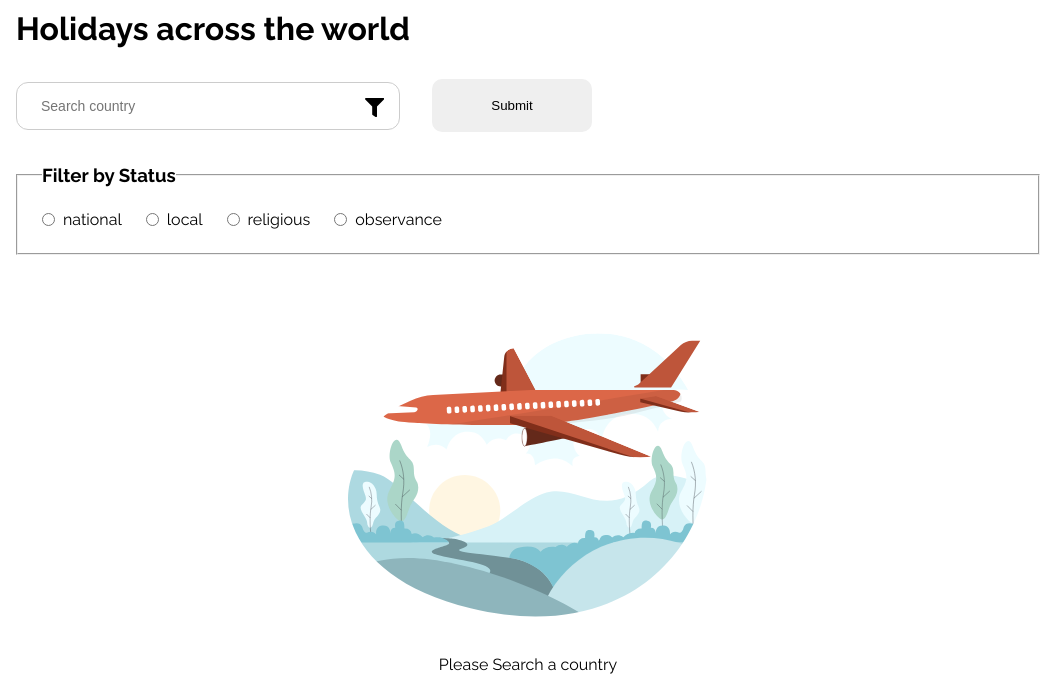
Scenario: holiday search › should have error when no any countries exist
Type "Australi" into the field with id "search-box" at (208, 106), box top-left (16, 82), bottom-right (400, 130)
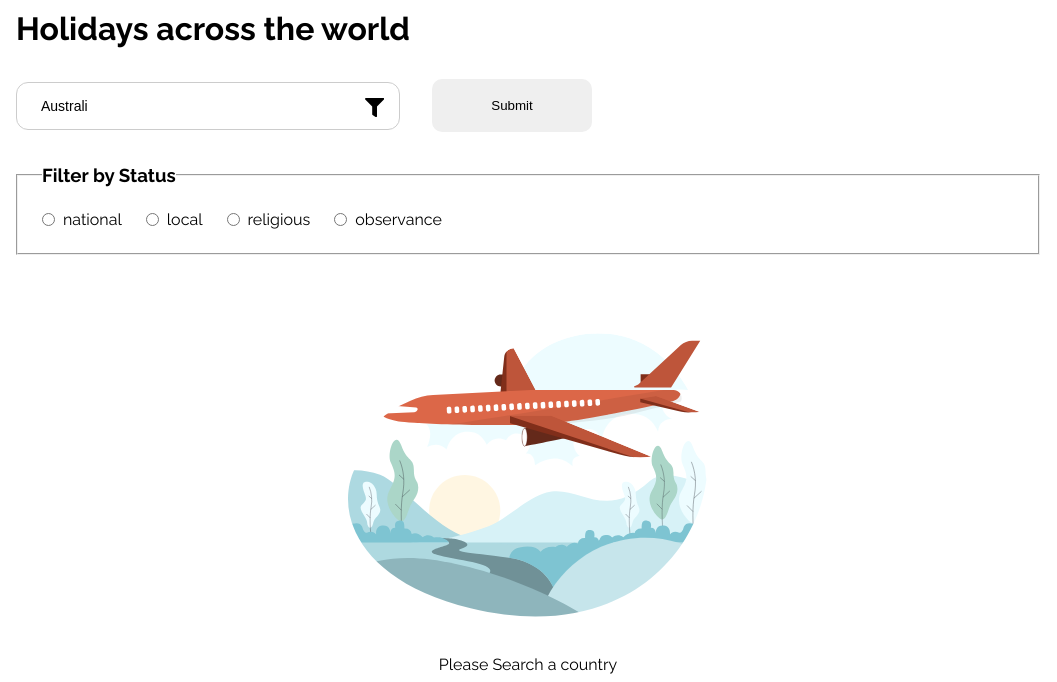
Click the button "Submit" at (512, 106), box top-left (432, 79), bottom-right (592, 132)
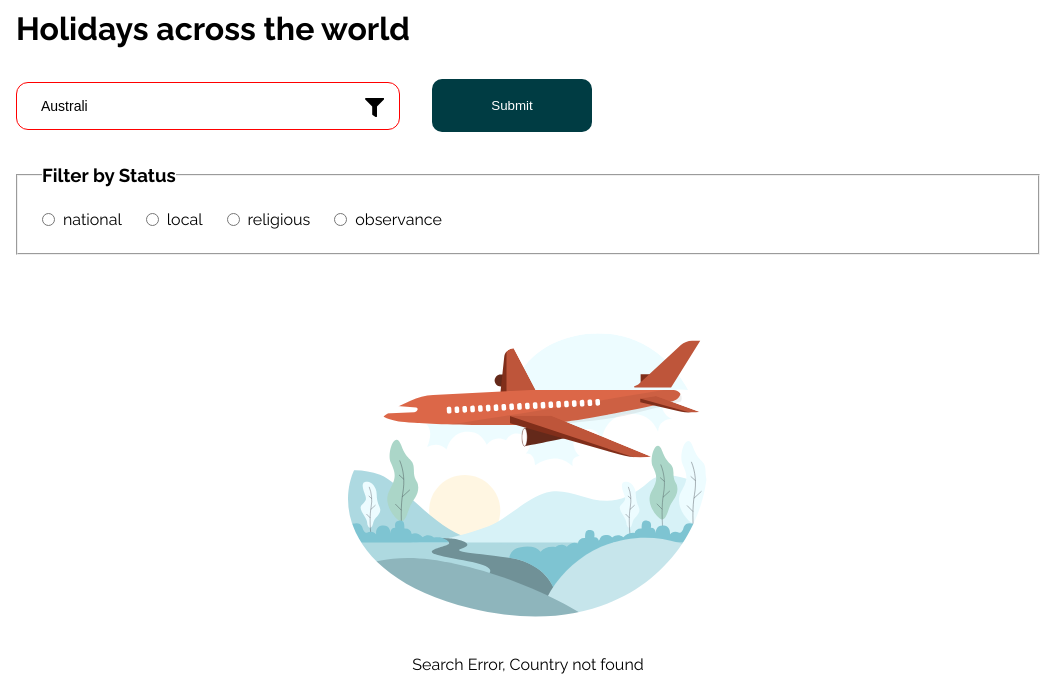
Expected: the text "Search Error, Country not found" is shown, top-left (412, 655), bottom-right (644, 674)
